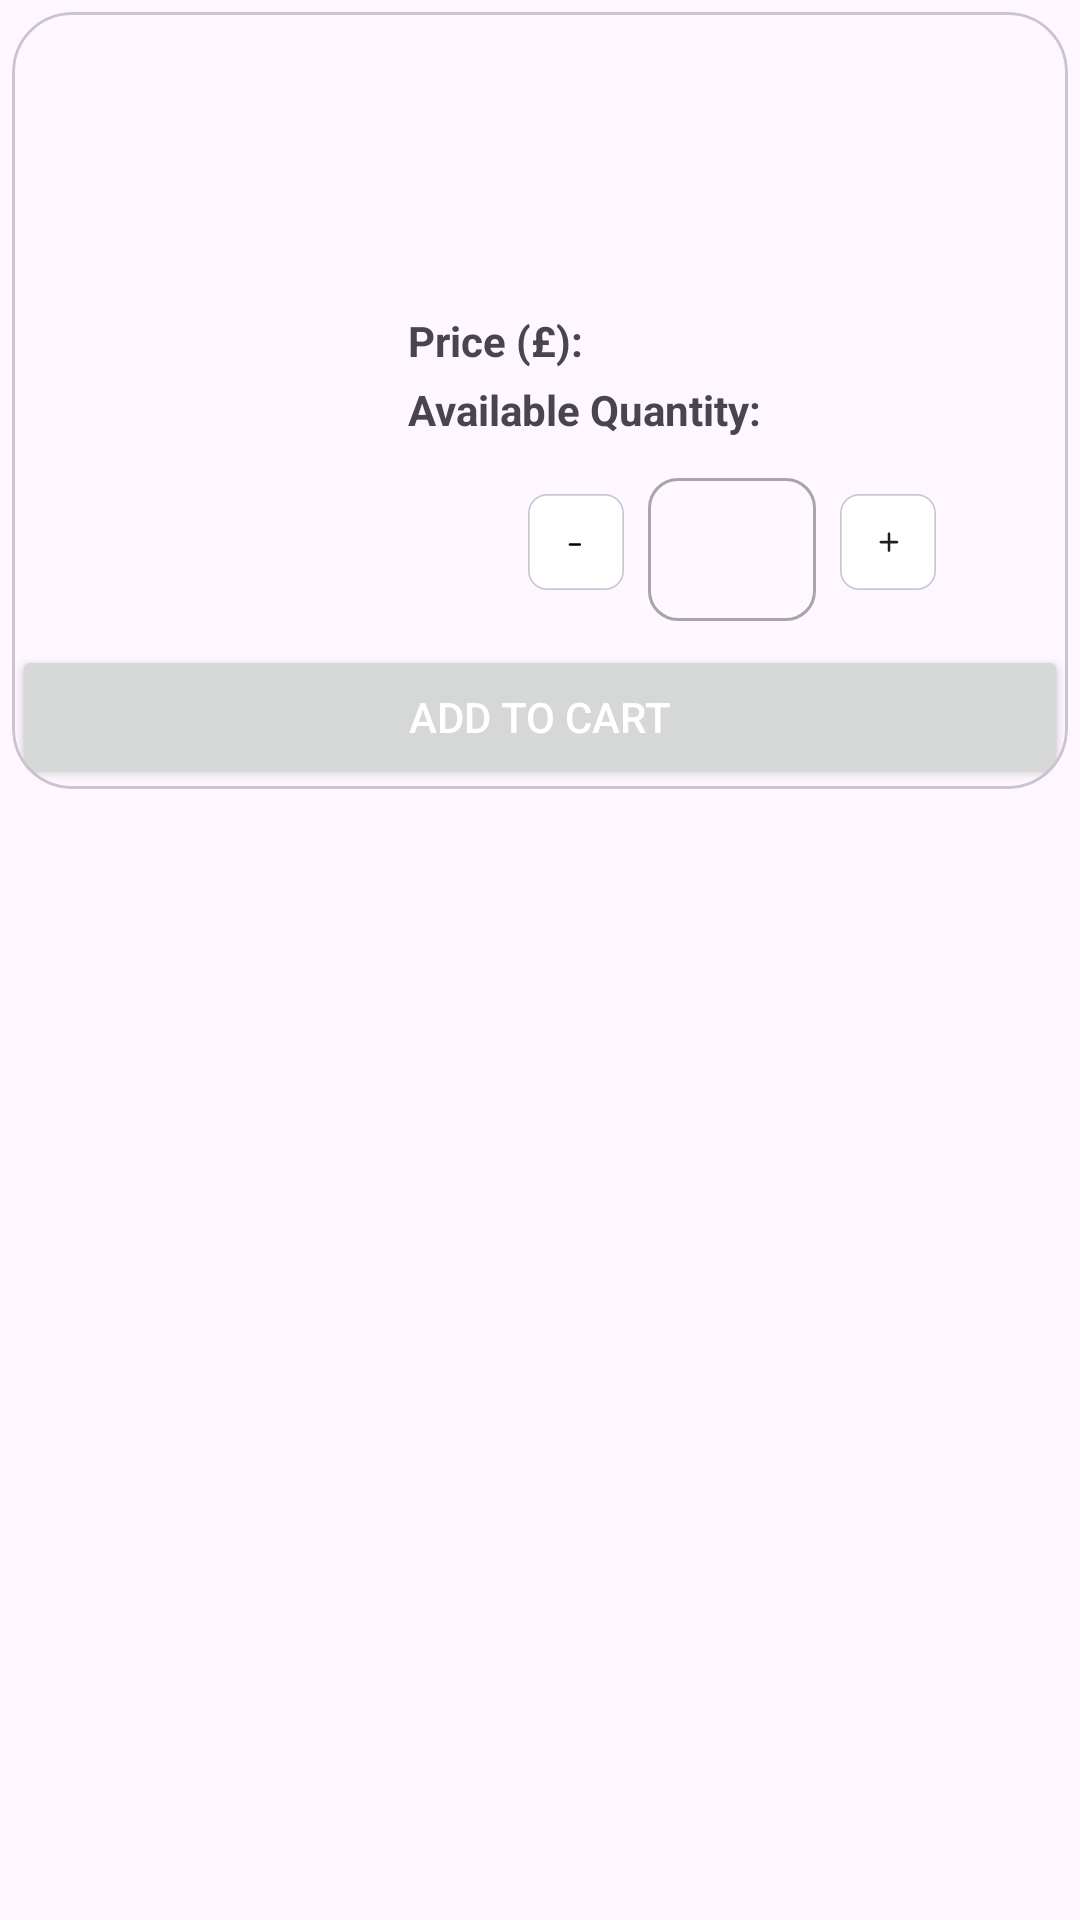

Where to tap for icons on this 1080px x 1920px app screen, as point (x, y):
Decrease: point (576, 542)
Increase: point (888, 542)
